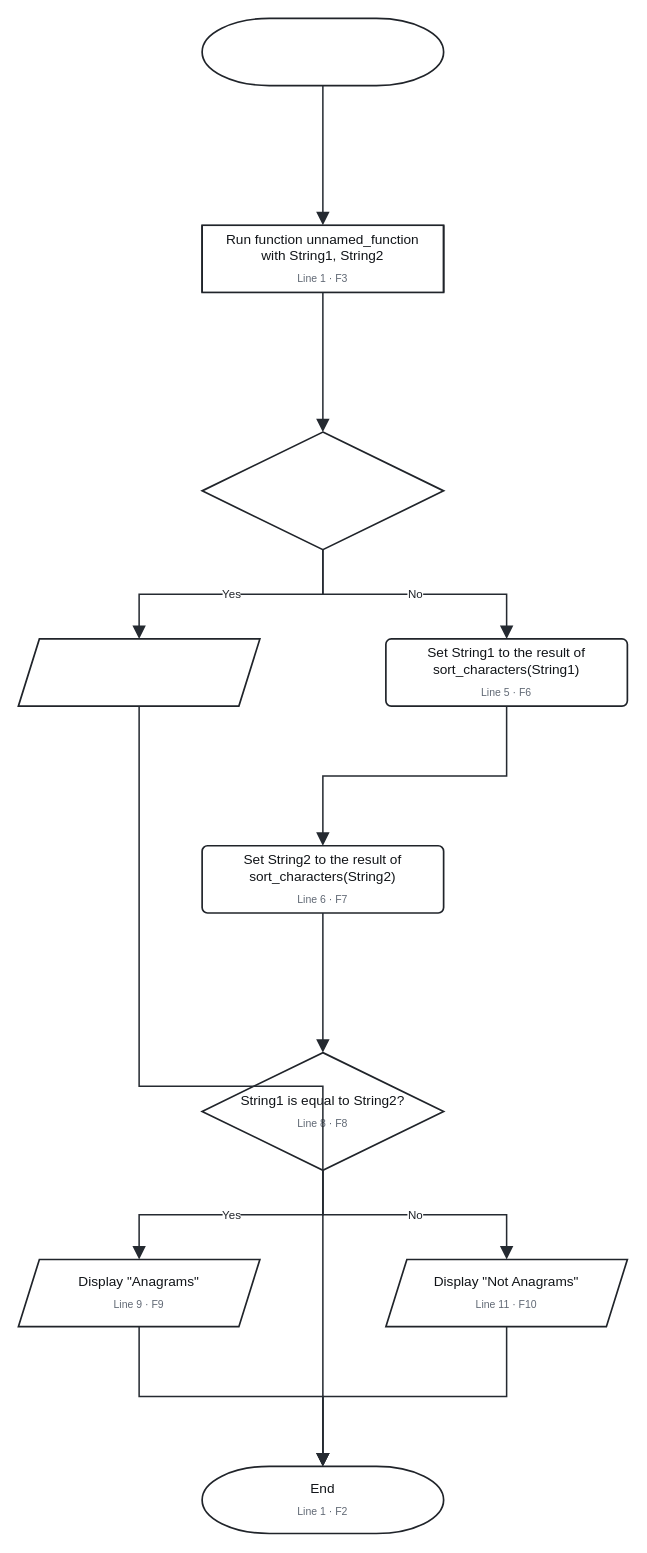
Some shapes in this 647 by 1553 pixel diagram are drawn without their labels. The shapes that lost their labels are listed below. From the top down, each one's centre as x and y in pixels, then its label:
[322,51]: Start Line 1 · F1
[322,490]: The length of String1 is not equal to the length of String2? Line 2 · F4
[138,672]: Display "Not Anagrams" Line 3 · F5
